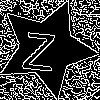Z: (21, 23, 57, 72)
